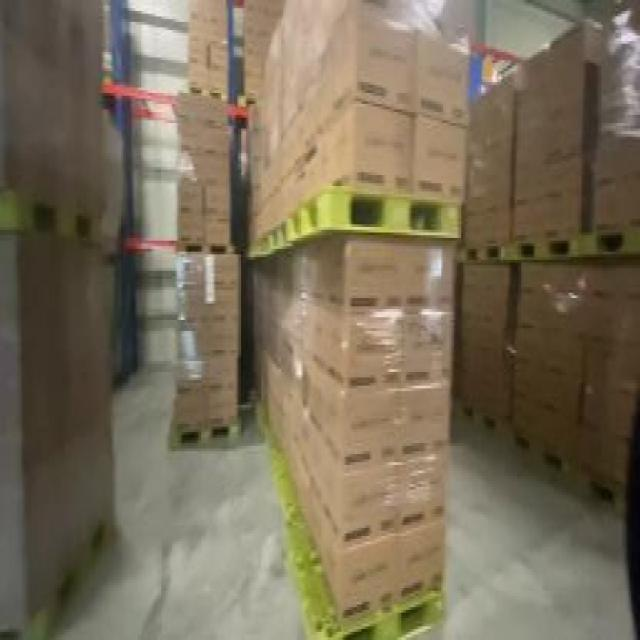box: (248, 0, 452, 635), (464, 33, 638, 509), (2, 3, 120, 632), (178, 2, 244, 460)
